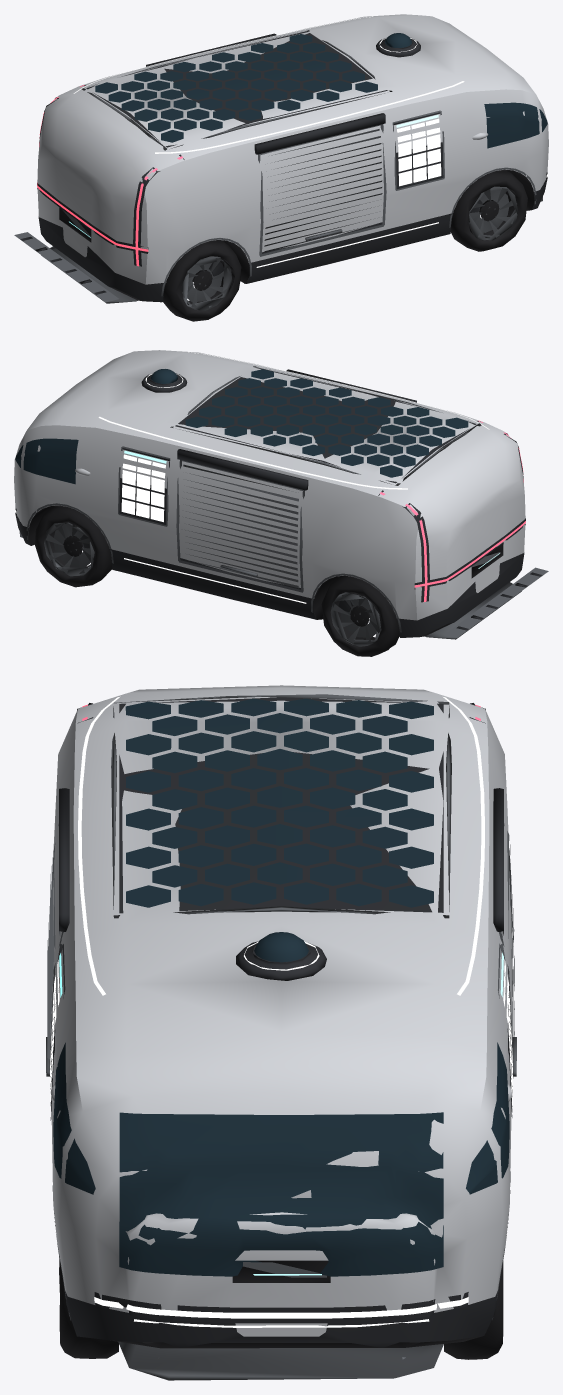
The model's file is pod325_lo.glb.
The picture shows the model from 3 angles, top to bottom: view 1: azimuth 30°, elevation 25°; view 2: azimuth 150°, elevation 25°; view 3: azimuth 270°, elevation 25°; orthographic projection. The views are drawn at different scales.
Parts seen in each view (by area): view 1: f162-body.001, f162-glass, f325-dark, f162-trim, f325-dark-lower, f325-led, f162-wheel-fr-tire, f162-wheel-rr-tire, f162-wheel-rr-trim, f162-wheel-fr-trim, f162-tire-arch, f162-tail; view 2: f162-body.001, f162-glass, f162-trim, f325-dark, f325-dark-lower, f325-led, f162-wheel-rl-tire, f162-wheel-fl-tire, f162-wheel-fl-trim, f162-wheel-rl-trim, f162-tire-arch, f162-tail; view 3: f162-body.001, f162-glass, f325-dark, f162-trim, f325-dark-lower, f325-led, f162-tire-arch, f162-head, f162-wheel-fr-tire, f162-wheel-fl-tire.
Part boxes in pixels (x1,y1,x2,y2): f162-body.001: (37,14,548,284); f162-glass: (95,33,547,148); f325-dark: (20,31,547,294); f162-trim: (14,30,542,303); f325-dark-lower: (38,177,547,301); f325-led: (73,16,464,267); f162-wheel-fr-tire: (450,170,527,251); f162-wheel-rr-tire: (163,240,241,321); f162-wheel-rr-trim: (181,256,232,310); f162-wheel-fr-trim: (468,186,518,240); f162-tire-arch: (59,169,534,302); f162-tail: (37,85,182,266); f162-body.001: (14,350,525,620); f162-glass: (15,369,468,484); f162-trim: (19,366,548,639); f325-dark: (15,367,542,630); f325-dark-lower: (15,512,524,637); f325-led: (98,352,489,603); f162-wheel-rl-tire: (321,576,399,656); f162-wheel-fl-tire: (35,506,112,587); f162-wheel-fl-trim: (44,522,94,576); f162-wheel-rl-trim: (330,592,381,646); f162-tire-arch: (28,505,503,637); f162-tail: (380,420,525,601); f162-body.001: (50,685,512,1336); f162-glass: (53,698,509,1276); f325-dark: (50,697,512,1323); f162-trim: (46,694,516,1380); f325-dark-lower: (65,1291,497,1347); f325-led: (50,696,512,1327); f162-tire-arch: (67,1260,495,1348); f162-head: (94,1297,468,1318); f162-wheel-fr-tire: (59,1256,118,1358); f162-wheel-fl-tire: (444,1261,503,1359).
Size of the model in its own units: 4.31 by 1.7 by 1.92.
